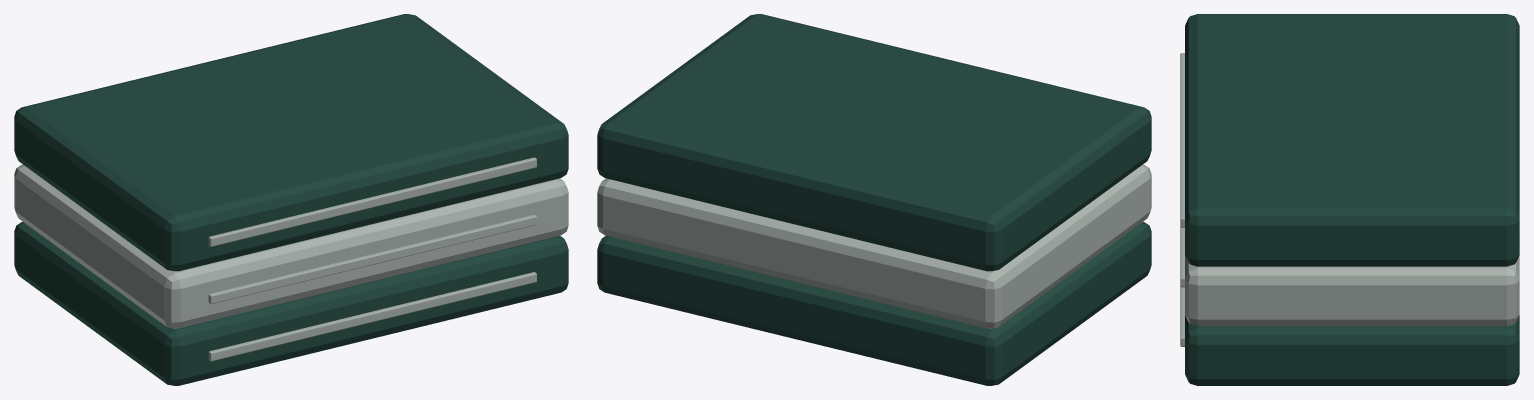
The model's file is TowelStack.fbx.
3 renders of one model, left to right at view 1: azimuth 30°, elevation 25°; view 2: azimuth 150°, elevation 25°; view 3: azimuth 270°, elevation 25°, orthographic. The views are drawn at different scales.
Visible parts, largest first — view 1: TowelStack; view 2: TowelStack; view 3: TowelStack.
Boxes of the visible parts, x1,y1,x2,y2 form: TowelStack: (14, 14, 568, 385); TowelStack: (597, 14, 1151, 385); TowelStack: (1180, 14, 1519, 385).
Size of the model in its own units: 42 by 29.4 by 16.9.
